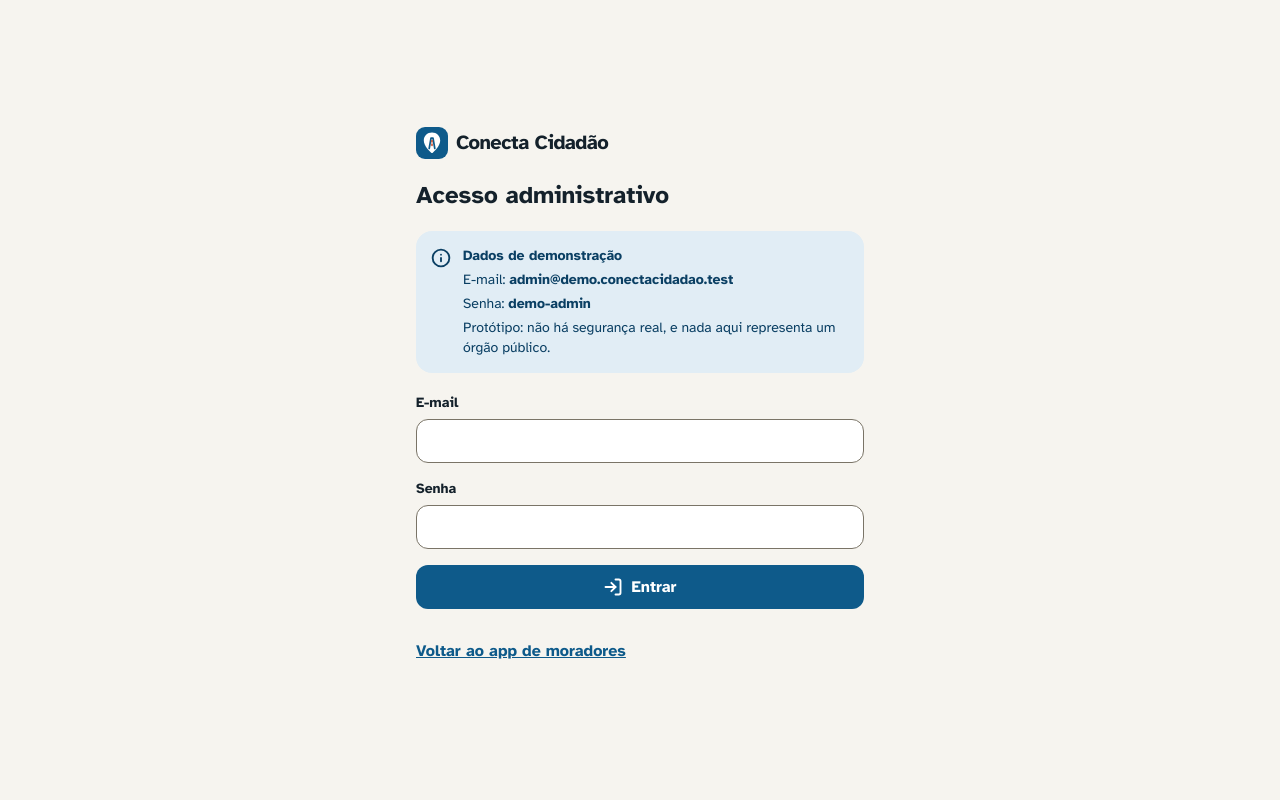
Test: painel: visão geral e navegação › mostra os números da fila e as primeiras ocorrências
This screenshot has width=1280, height=800.
In the field labelled "E-mail": (640, 441) [416,419,864,463], type "admin@demo.conectacidadao.test"
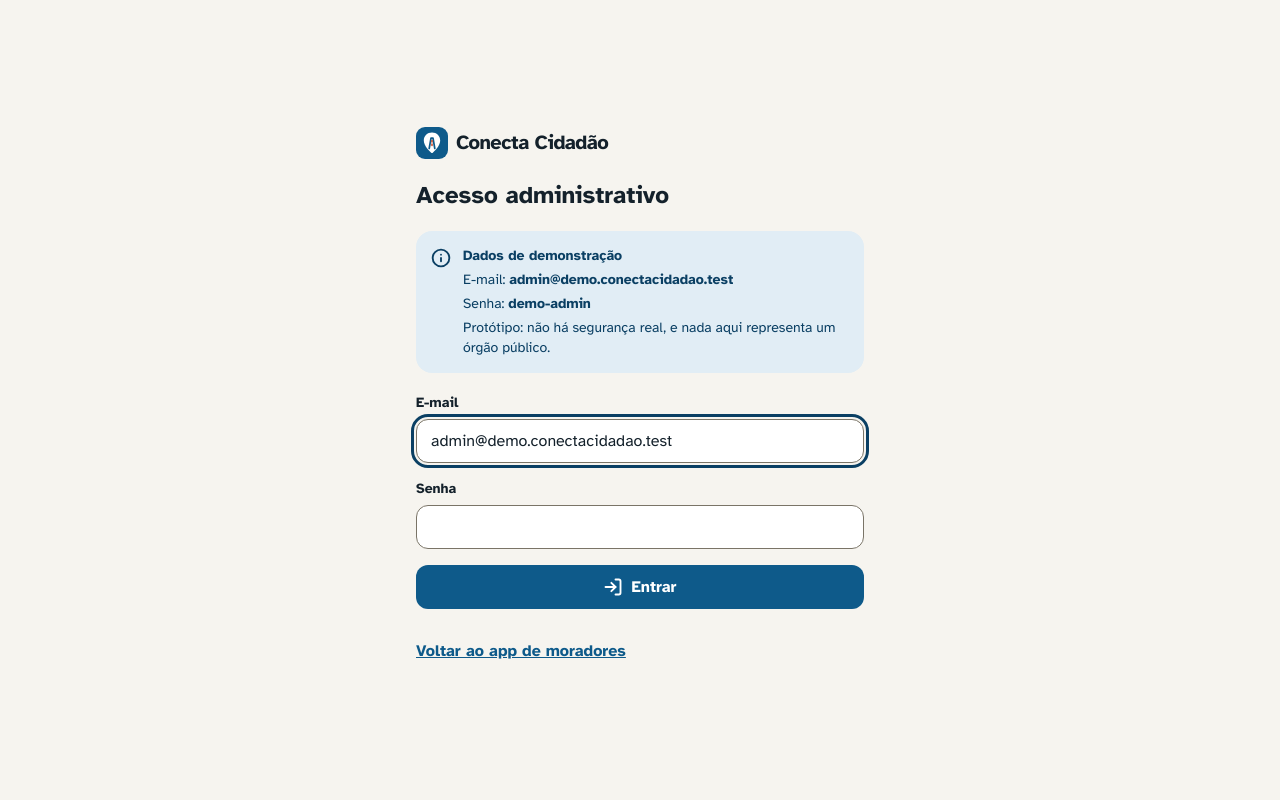
In the password field labelled "Senha": (640, 527) [416,505,864,549], type "demo-admin"
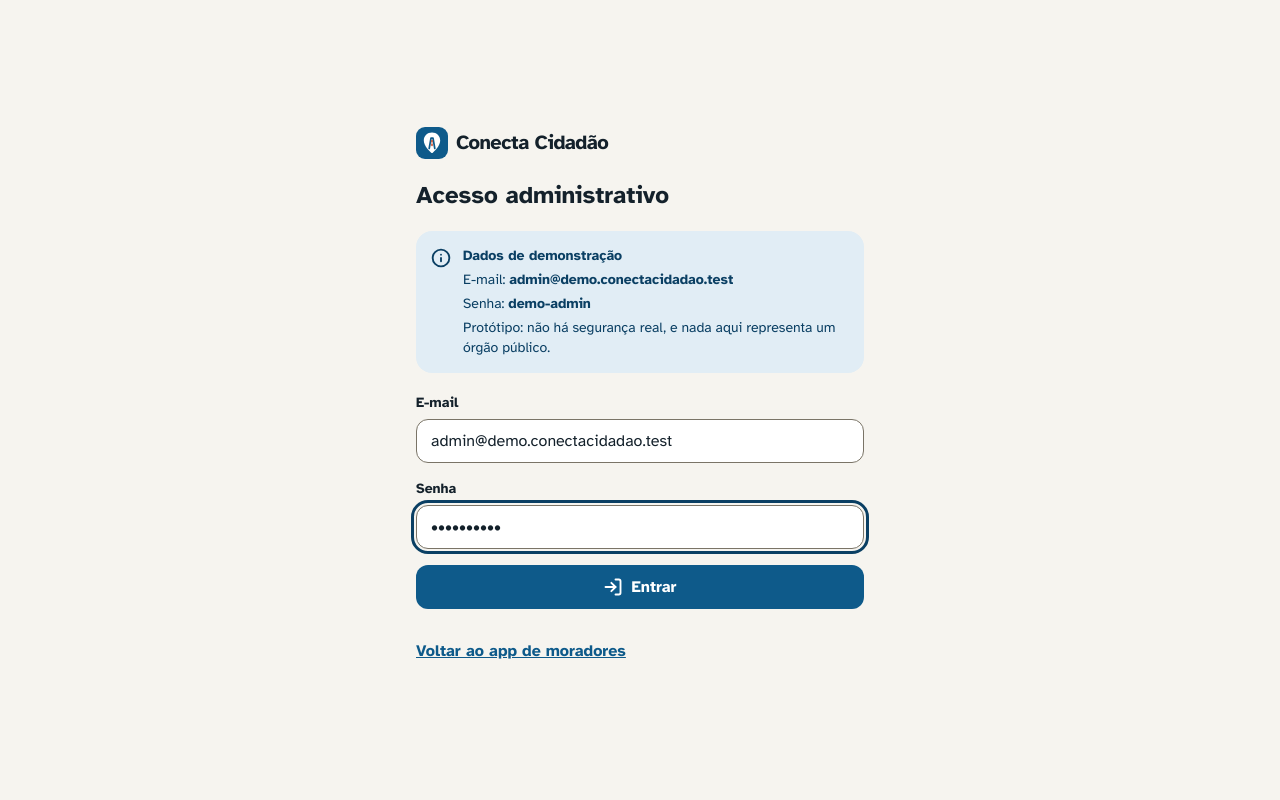
Click the button "Entrar": (640, 587) [416,565,864,609]
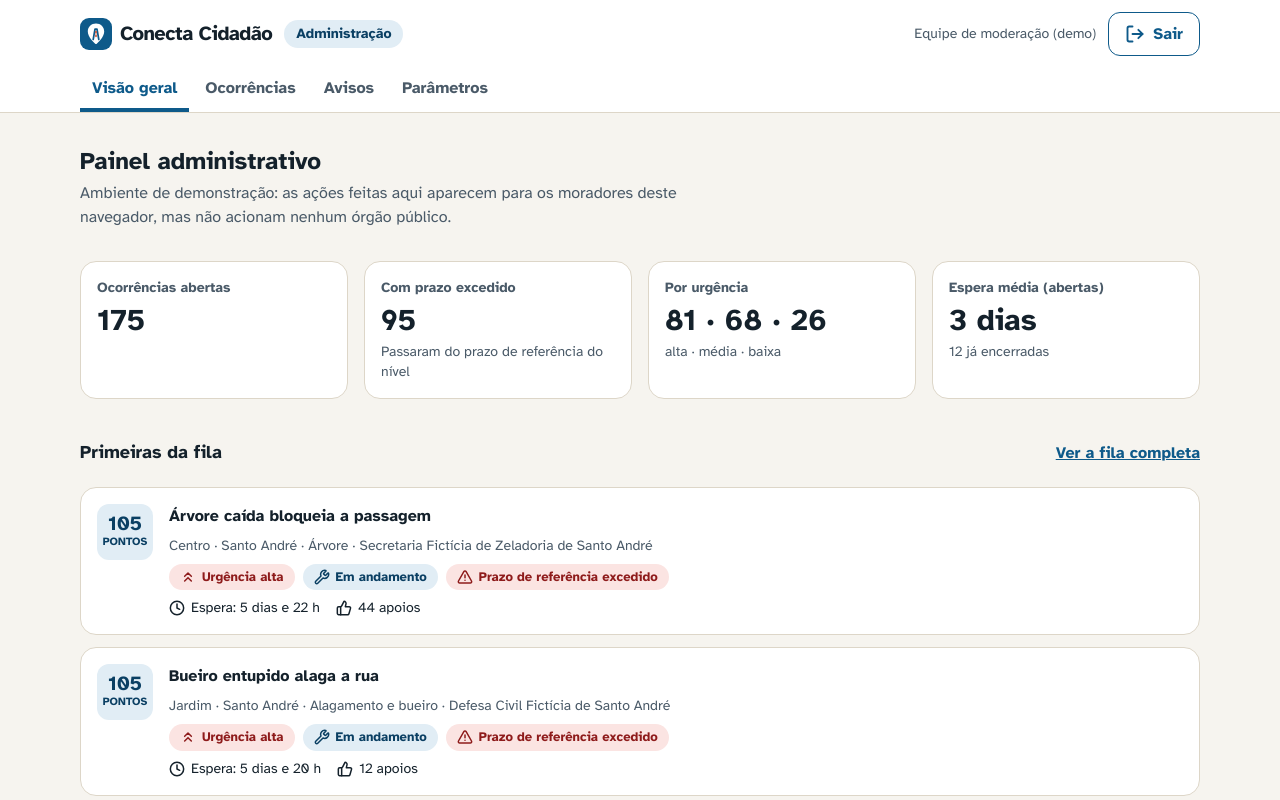
Expected: the text "Ocorrências abertas" is shown, [97,279,231,296]
Expected: the text "Com prazo excedido" is shown, [381,279,516,296]
Expected: the heading "Primeiras da fila" is shown, [80,438,222,466]
